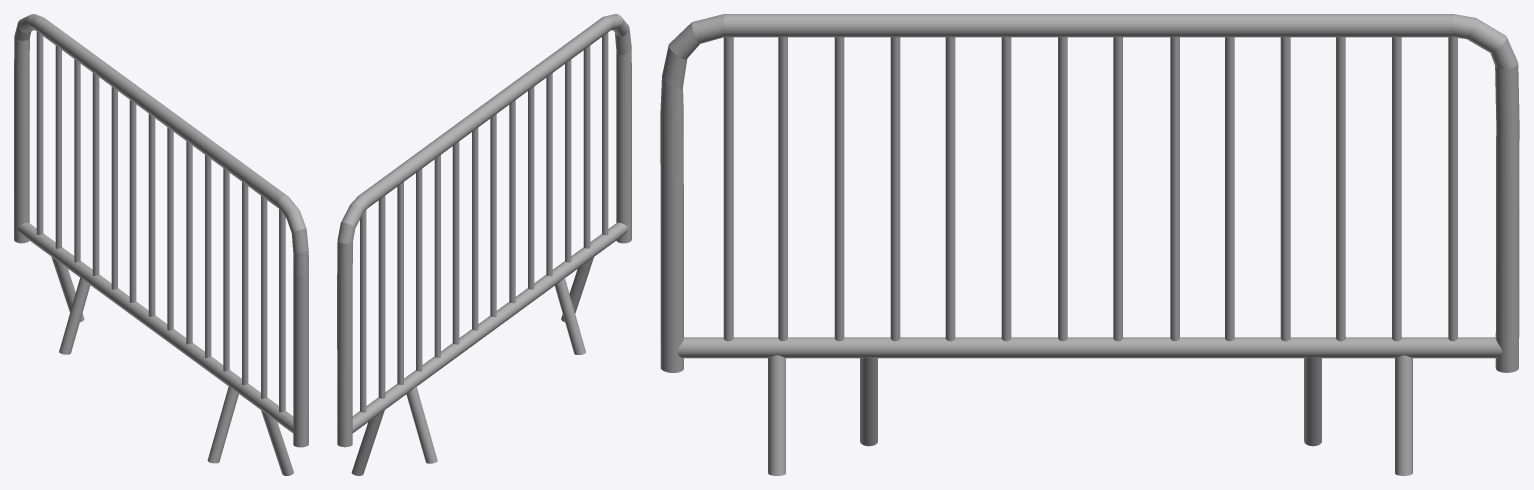
File: barriere.obj
3 renders of one model, left to right at view 1: azimuth 30°, elevation 25°; view 2: azimuth 150°, elevation 25°; view 3: azimuth 270°, elevation 25°, orthographic. The views are drawn at different scales.
Visible parts, largest first — view 1: Cylinder.015; view 2: Cylinder.015; view 3: Cylinder.015.
Boxes of the visible parts, x1,y1,x2,y2 form: Cylinder.015: (14,14,308,475); Cylinder.015: (337,14,631,475); Cylinder.015: (660,14,1519,475).
Bounding box in the file's own units: 0.2833 × 1.48 × 2.6.
Materials: 1 (1 with a texture image).
